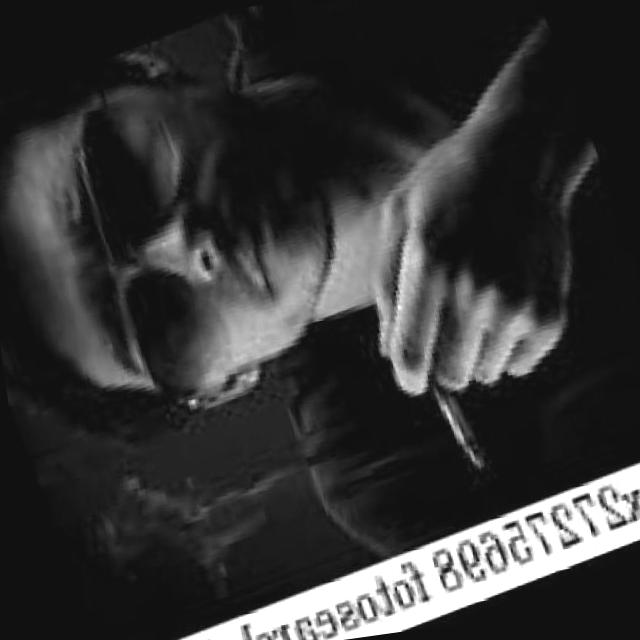smoke: (420, 353, 494, 483)
